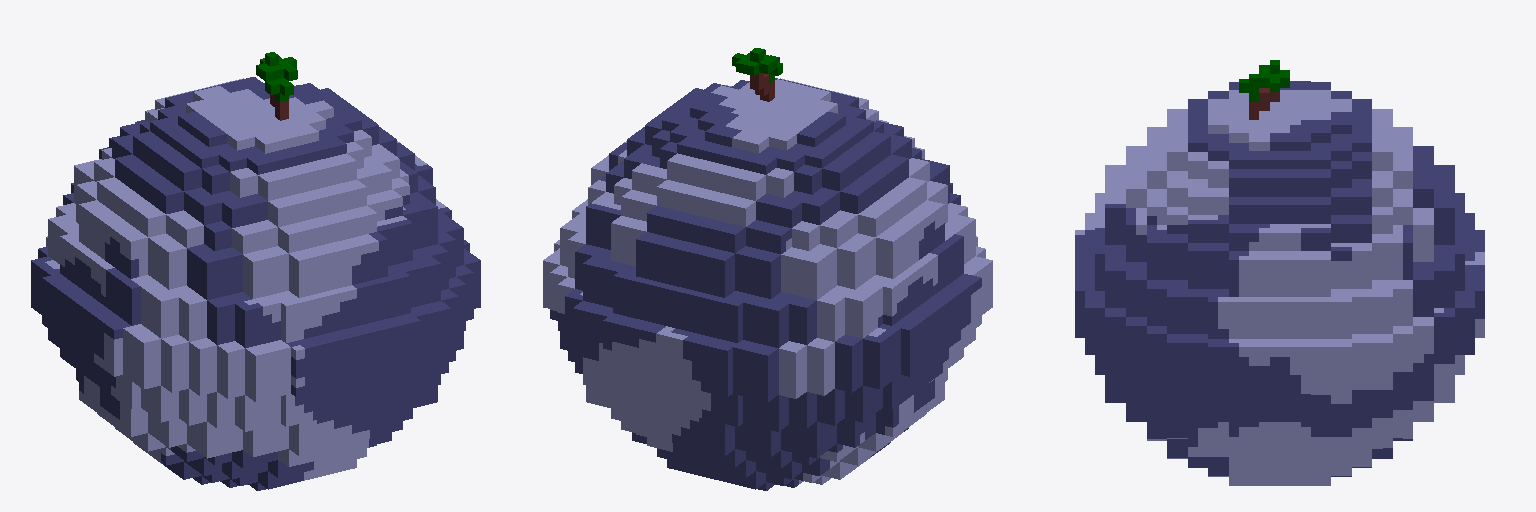
3 renders of one model, left to right at view 1: azimuth 30°, elevation 25°; view 2: azimuth 150°, elevation 25°; view 3: azimuth 270°, elevation 25°, orthographic.
Visible parts, largest first — view 1: object 1; view 2: object 1; view 3: object 1.
Part boxes in pixels (left/top/right/bottom): object 1: left=31, top=52, right=480, bottom=490; object 1: left=543, top=48, right=992, bottom=490; object 1: left=1075, top=60, right=1484, bottom=485.
Bounding box in the file's own units: 4 × 4.3 × 4.
Materials: 1 (1 with a texture image).